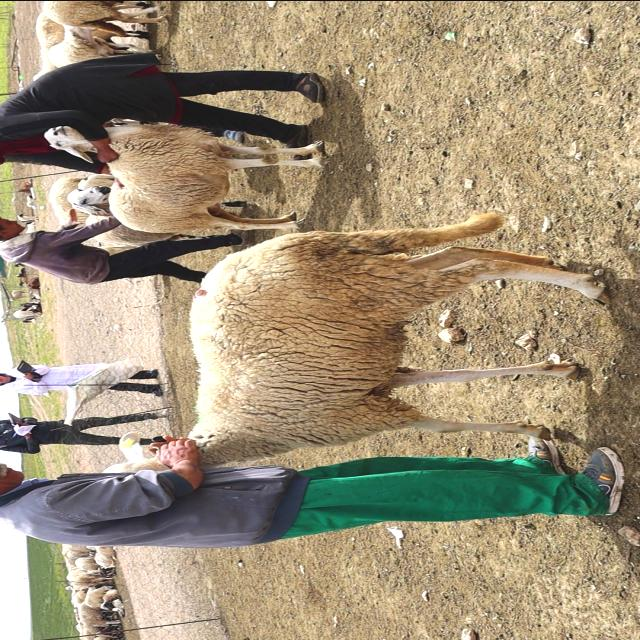Score_1: (189, 212, 608, 465)
